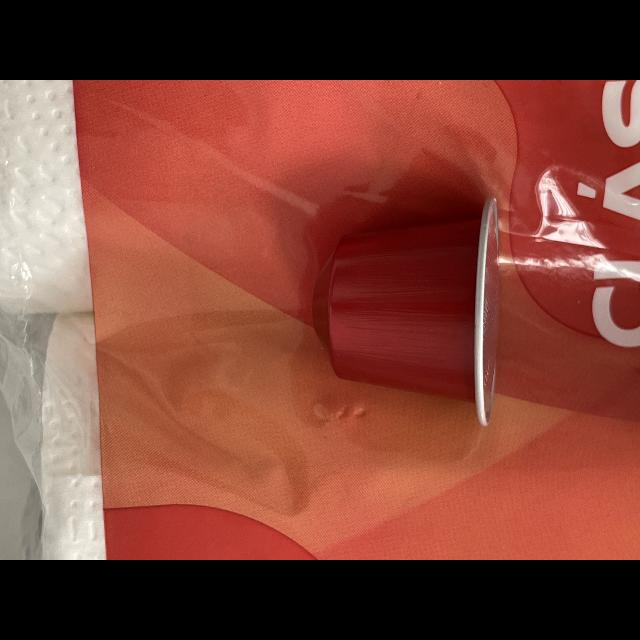intact_capsule: (301, 190, 525, 434)
